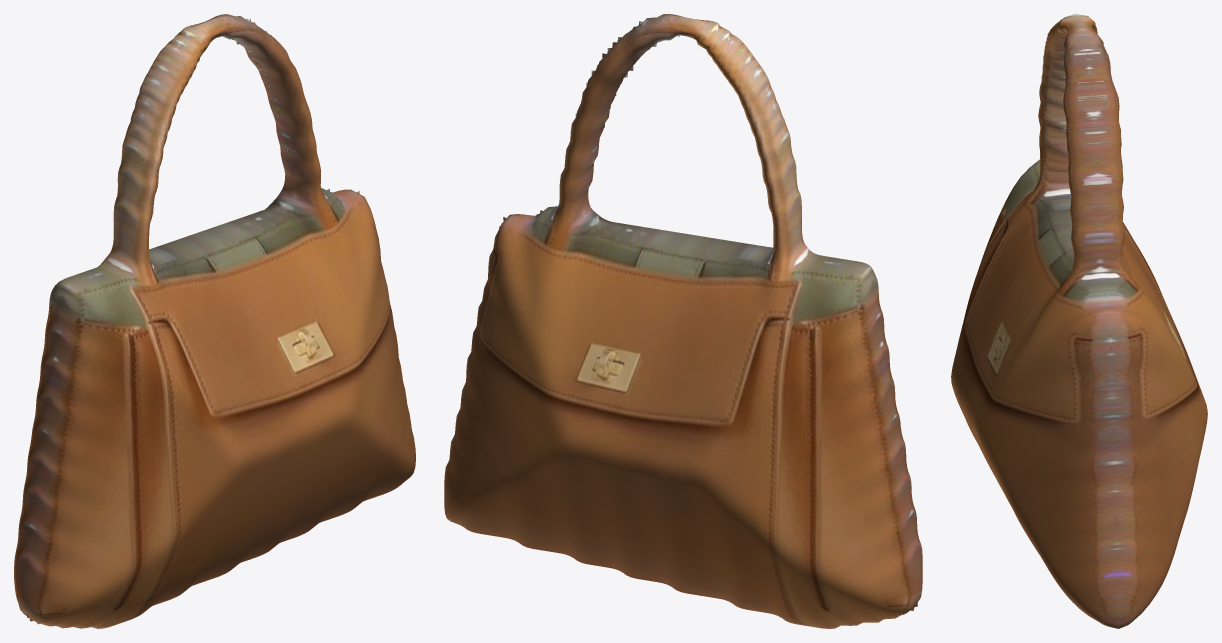
Rendered from prod-ae-camel-turnlock-tote.glb.
3 views of the same model, side by side, from view 1: azimuth 30°, elevation 25°; view 2: azimuth 150°, elevation 25°; view 3: azimuth 270°, elevation 25° (orthographic). The views are drawn at different scales.
Parts seen in each view (by area): view 1: prod-ae-camel-turnlock-tote; view 2: prod-ae-camel-turnlock-tote; view 3: prod-ae-camel-turnlock-tote.
Boxes of the visible parts, x1,y1,x2,y2 form: prod-ae-camel-turnlock-tote: [14, 14, 415, 628]; prod-ae-camel-turnlock-tote: [444, 14, 922, 628]; prod-ae-camel-turnlock-tote: [951, 14, 1207, 628].
Size of the model in its own units: 0.1705 by 0.2186 by 0.0924.
Materials: 1 (1 with a texture image).
